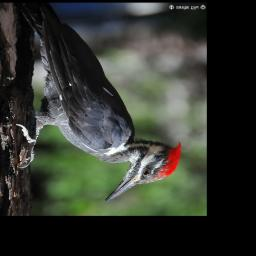Woodpecker: (16, 3, 183, 203)
